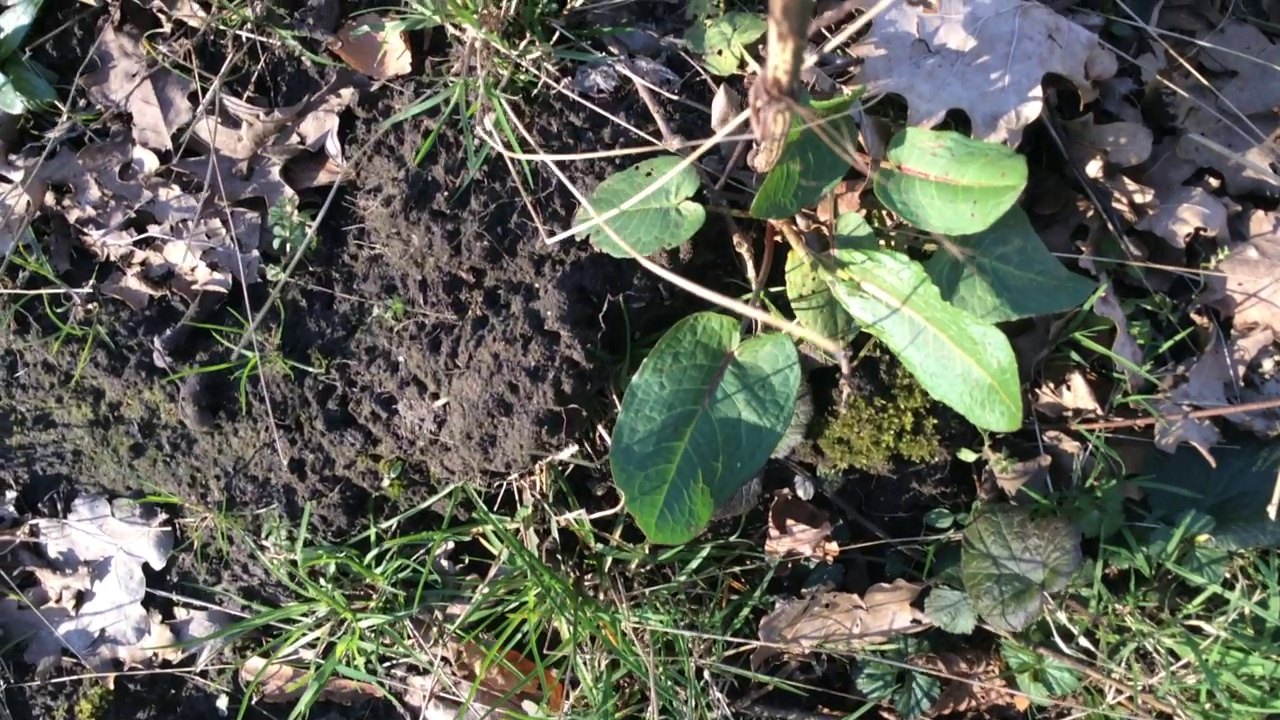rumex: (574, 1, 1106, 548)
